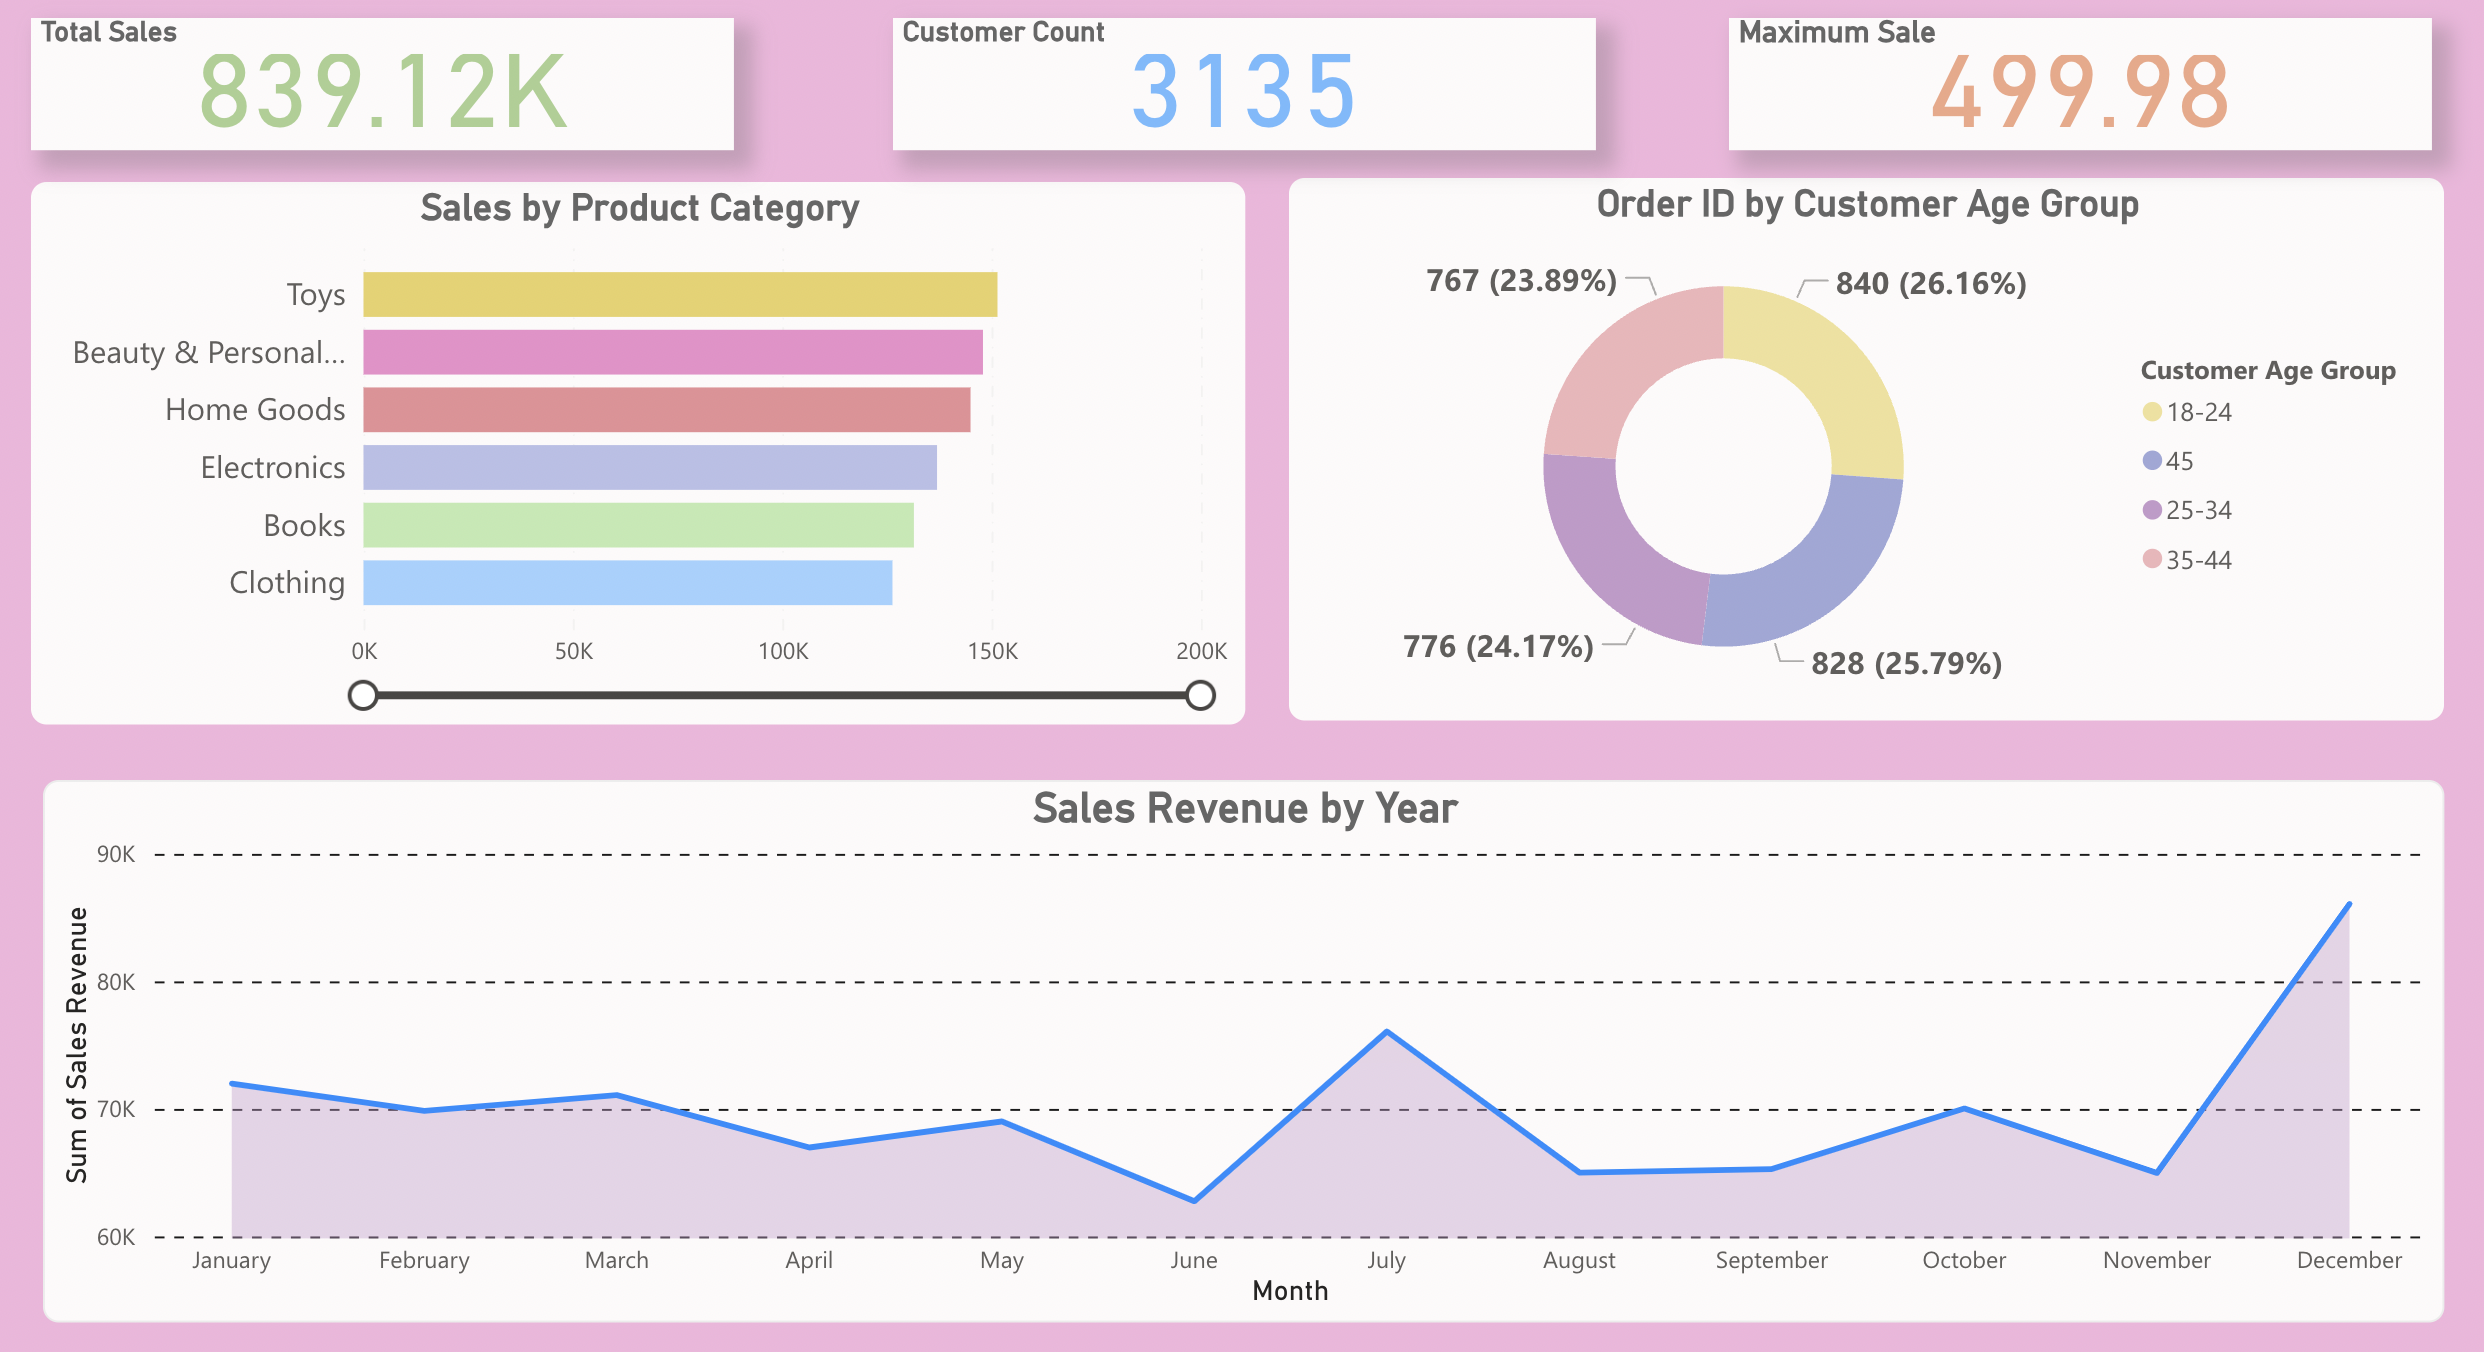

Layout of this report page (visuals, bound fields, positions):
{"tool":"powerbi","page":{"name":"Page 1","canvas":[1280,720],"ordinal":0},"visuals":[{"type":"clusteredBarChart","title":"Sales by Product Category","fields":{"Category":["Finance_data.Product Category"],"Y":["Sum(Finance_data.Sales Revenue)"]},"box":[16.1,95.2,624.7,279.2],"z":0},{"type":"donutChart","title":"Order ID by Customer Age Group","fields":{"Category":["Finance_data.Customer Age Group"],"Y":["Count(Finance_data.Order ID)"]},"box":[663.4,93.6,594,279.2],"z":1},{"type":"areaChart","title":"Sales Revenue by Year","fields":{"Category":["Finance_data.Order Date.Variation.Date Hierarchy.Month"],"Y":["Sum(Finance_data.Sales Revenue)"]},"box":[22.6,403.5,1234.8,279.2],"z":2},{"type":"card","title":"Total Sales","fields":{"Values":["Sum(Finance_data.Sales Revenue)"]},"box":[16.1,11.3,361.6,67.8],"z":3},{"type":"card","title":"Customer Count","fields":{"Values":["Count(Finance_data.Customer Name)"]},"box":[460,11.3,361.6,67.8],"z":4},{"type":"card","title":"Maximum Sale","fields":{"Values":["Max(Finance_data.Sales Revenue)"]},"box":[889.4,11.3,361.6,67.8],"z":5}]}

Visuals, with their boxes in screenshot pixels (x1, y1, x2, y2):
"Sales by Product Category" clusteredBarChart: bbox(50, 183, 1250, 719)
"Order ID by Customer Age Group" donutChart: bbox(1293, 180, 2433, 716)
"Sales Revenue by Year" areaChart: bbox(63, 775, 2433, 1311)
"Total Sales" card: bbox(50, 22, 745, 152)
"Customer Count" card: bbox(903, 22, 1597, 152)
"Maximum Sale" card: bbox(1727, 22, 2421, 152)
